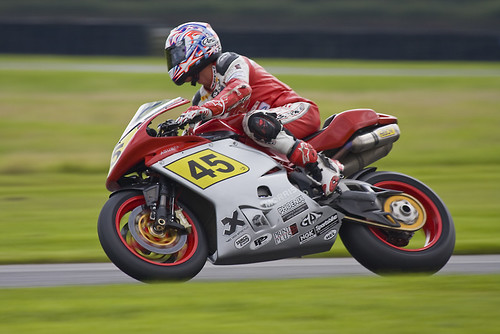helmet: (158, 17, 221, 82)
